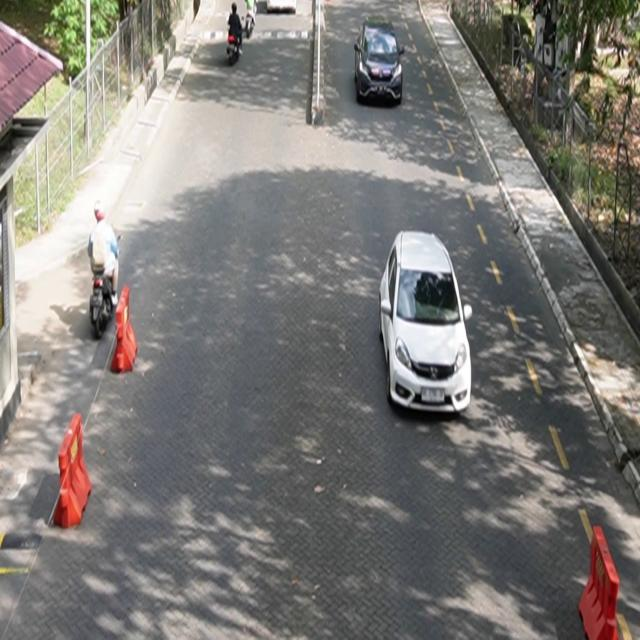car: (379, 230, 474, 416), (354, 15, 406, 106)
